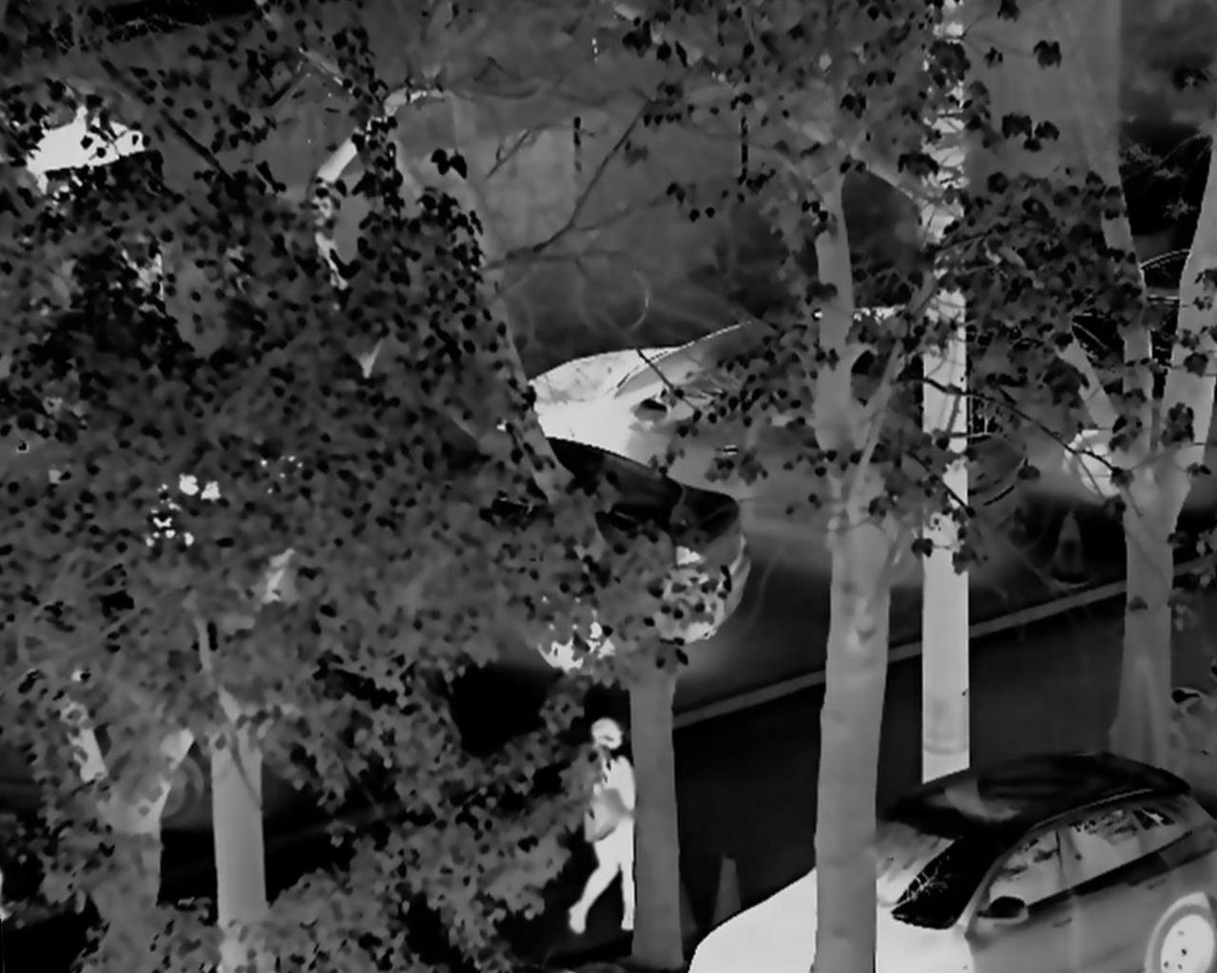person: (567, 713, 648, 942)
